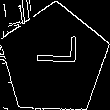L_W: (29, 43, 79, 77)
